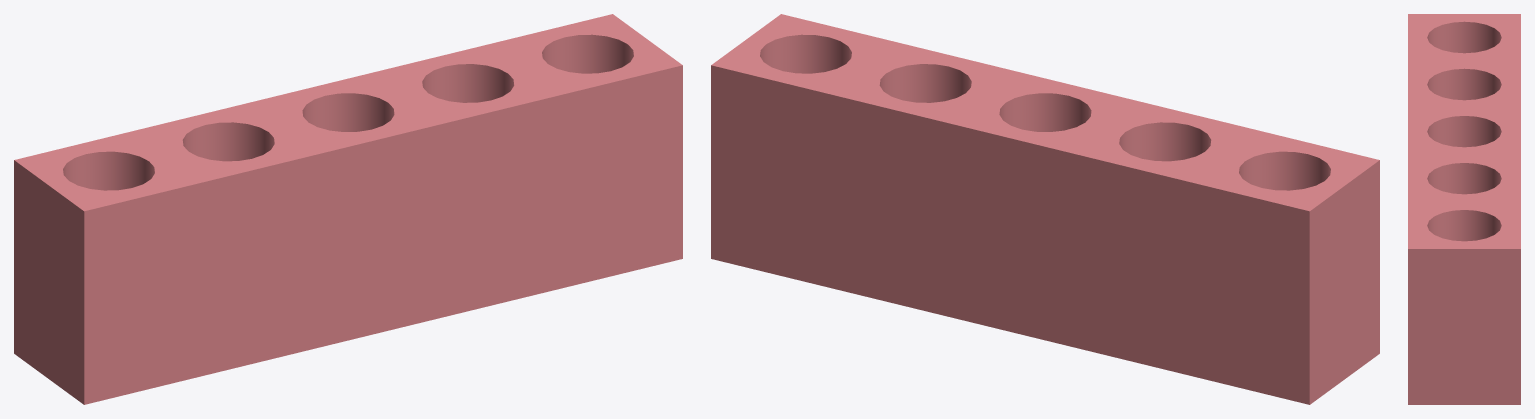
Rendered from vialTray.fbx.
The picture shows the model from 3 angles, left to right: view 1: azimuth 30°, elevation 25°; view 2: azimuth 150°, elevation 25°; view 3: azimuth 270°, elevation 25°; orthographic projection. The views are drawn at different scales.
Parts seen in each view (by area): view 1: Vial Tray; view 2: Vial Tray; view 3: Vial Tray.
Part boxes in pixels (x1=…): Vial Tray: x1=14, y1=14, x2=682, y2=404; Vial Tray: x1=711, y1=14, x2=1379, y2=404; Vial Tray: x1=1408, y1=14, x2=1520, y2=404.
Bounding box in the file's own units: 25.96 × 5.26 × 8.02.
